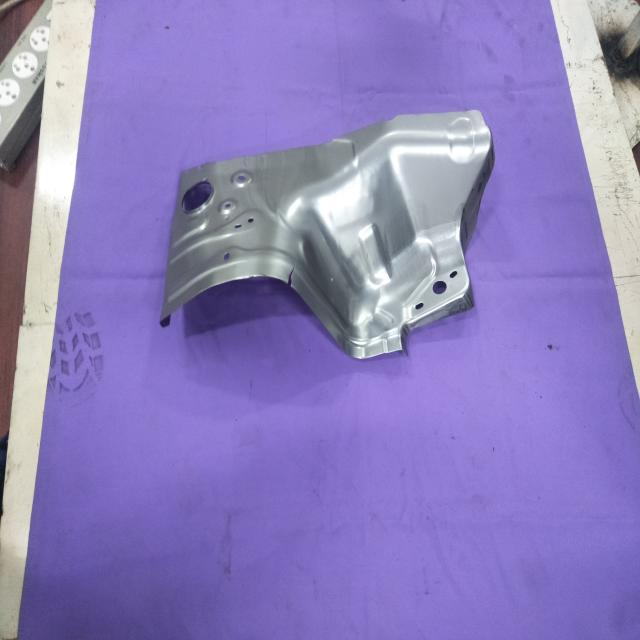Defect: (286, 254, 300, 287)
rust: (244, 264, 278, 280)
